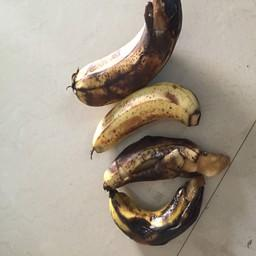Bad_banana: (67, 0, 256, 251)
